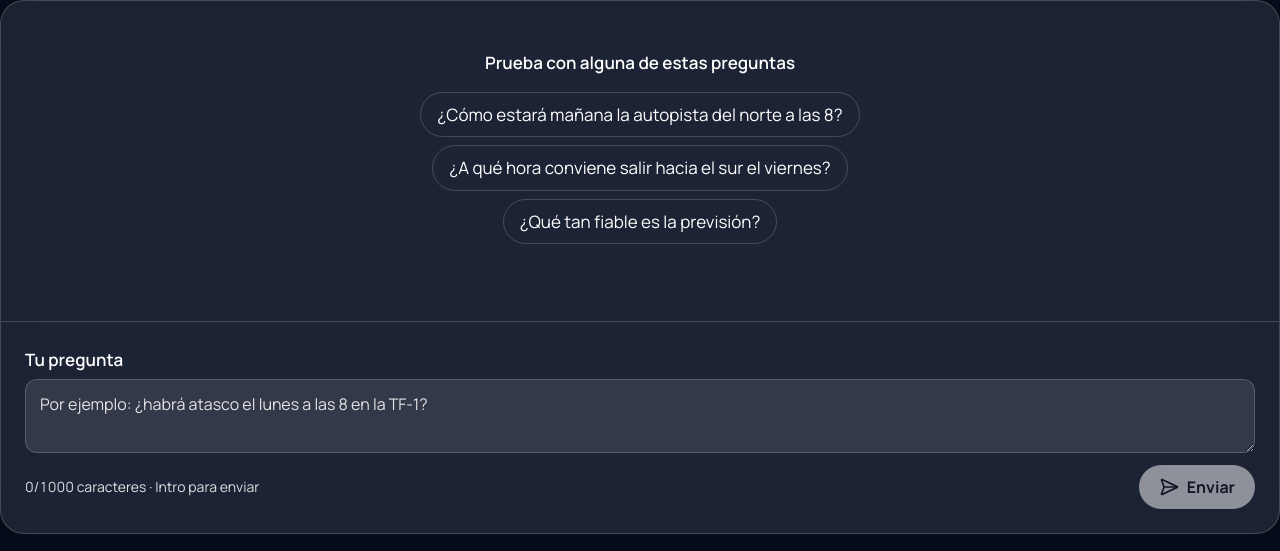
Test: Chat › sends a question and shows the answer with the tools used
Step 1. Type "¿Y mañana?" into the text box labelled "Tu pregunta" → [640, 416], box [25,379,1255,453]
Then press Enter
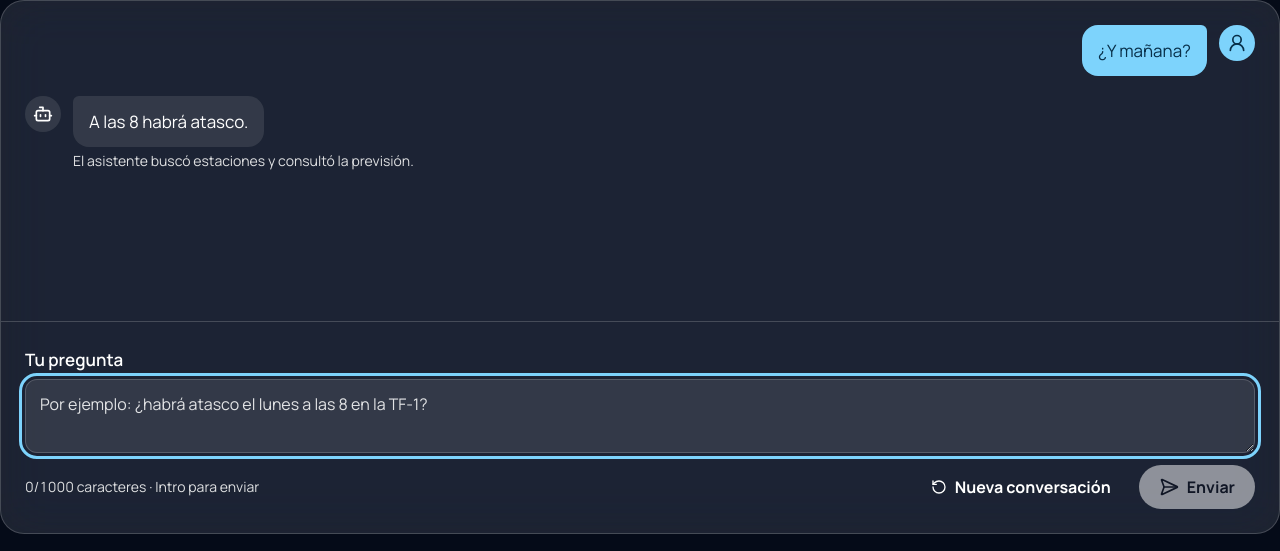
Expected: the text "A las 8 habrá atasco." is shown, [89,108,248,135]
Expected: the text "El asistente buscó estaciones y consultó la previsión." is shown, [73,151,414,171]
